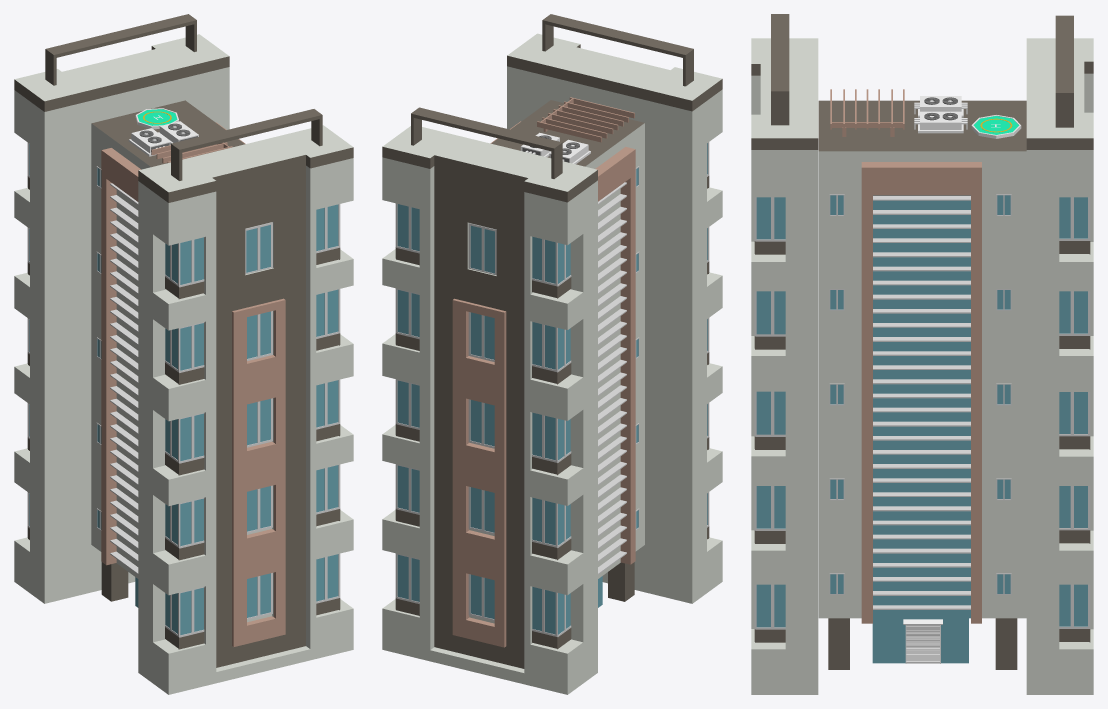
The model's file is Building_062.glb.
3 renders of one model, left to right at view 1: azimuth 30°, elevation 25°; view 2: azimuth 150°, elevation 25°; view 3: azimuth 270°, elevation 25°, orthographic. The views are drawn at different scales.
Visible parts, largest first — view 1: Cube.11596, Cube.11584, Cube.11594, Cube.11595, Cube.11590, Cube.11592, Plane.1416, Cube.11587, Cube.11586, Plane.1406, Plane.1407, Plane.1409 (+9 smaller); view 2: Cube.11584, Cube.11596, Cube.11585, Cube.11595, Cube.11590, Cube.11592, Plane.1393, Cube.11586, Cube.11587, Plane.1394, Plane.1395, Plane.1397 (+8 smaller); view 3: Cube.11595, Cube.11584, Cube.11596, Cube.11589, Cube.11593, Cube.11588, Cube.11591, Cube.11586, Cube.11587, Plane.1415, Plane.1411, Plane.1414 (+9 smaller).
Boxes of the visible parts, x1,y1,x2,y2 form: Cube.11596: (138,125,353,694); Cube.11584: (14,34,229,603); Cube.11594: (232,298,285,646); Cube.11595: (91,100,244,578); Cube.11590: (101,148,140,565); Cube.11592: (110,183,138,574); Plane.1416: (245,222,272,619); Cube.11587: (171,109,322,180); Cube.11586: (45,14,196,85); Plane.1406: (165,322,204,384); Plane.1407: (165,413,204,475); Plane.1409: (165,497,204,560); Cube.11584: (382,126,597,694); Cube.11596: (507,33,722,603); Cube.11585: (452,298,506,647); Cube.11595: (491,97,644,578); Cube.11590: (595,146,635,564); Cube.11592: (598,182,626,574); Plane.1393: (468,223,496,621); Cube.11586: (411,107,562,178); Cube.11587: (542,14,693,86); Plane.1394: (532,321,571,384); Plane.1395: (532,412,571,475); Plane.1397: (532,497,571,560); Cube.11595: (818,89,1026,618); Cube.11584: (1026,38,1093,694); Cube.11596: (751,38,818,694); Cube.11589: (873,196,970,609); Cube.11593: (861,162,981,623); Cube.11588: (872,618,968,663); Cube.11591: (828,618,1017,669); Cube.11586: (1055,15,1073,127); Cube.11587: (771,14,789,125); Plane.1415: (754,291,785,349); Plane.1411: (754,584,785,642); Plane.1414: (754,391,785,449).
Size of the model in its own units: 0.2971 by 0.8187 by 0.4291.
